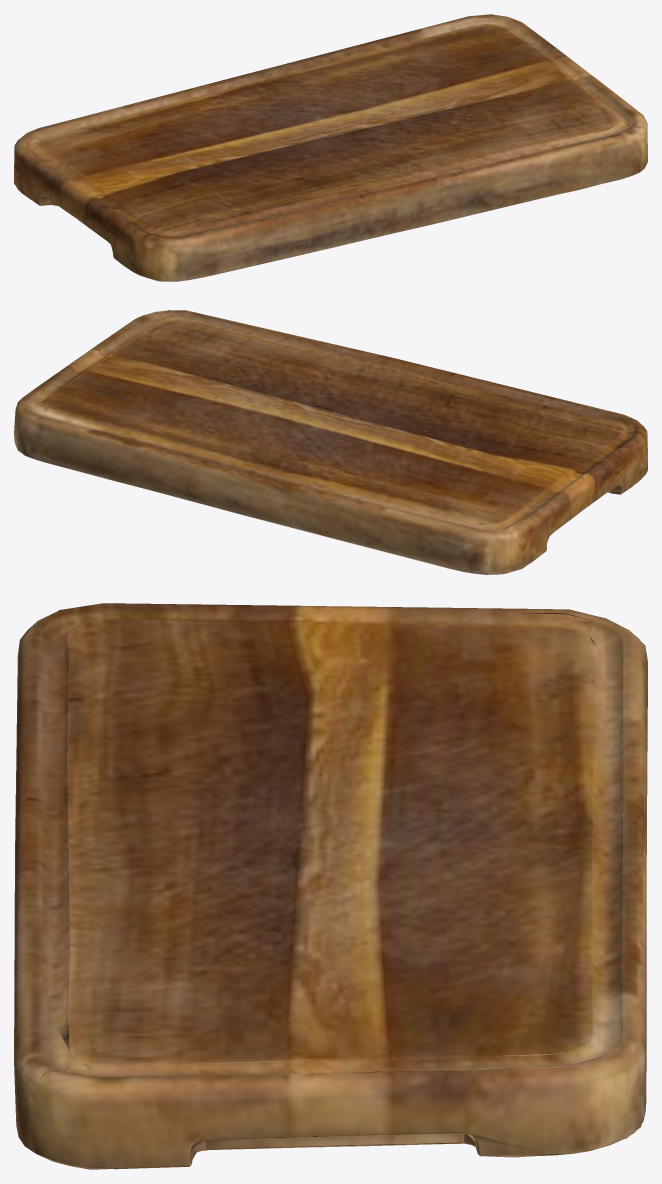
File: wooden_cutting_board.glb
3 views of the same model, one above another, from view 1: azimuth 30°, elevation 25°; view 2: azimuth 150°, elevation 25°; view 3: azimuth 270°, elevation 25° (orthographic). The views are drawn at different scales.
Visible parts, largest first — view 1: wooden_cutting_board; view 2: wooden_cutting_board; view 3: wooden_cutting_board.
Part boxes in pixels (bbox=[...]): wooden_cutting_board: bbox=[14, 14, 647, 281]; wooden_cutting_board: bbox=[14, 310, 647, 574]; wooden_cutting_board: bbox=[14, 603, 647, 1169].
Size of the model in its own units: 0.4502 by 0.0411 by 0.2467.
1 material, 1 textured.
